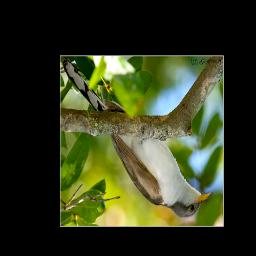Cuckoo: (60, 57, 217, 220)
